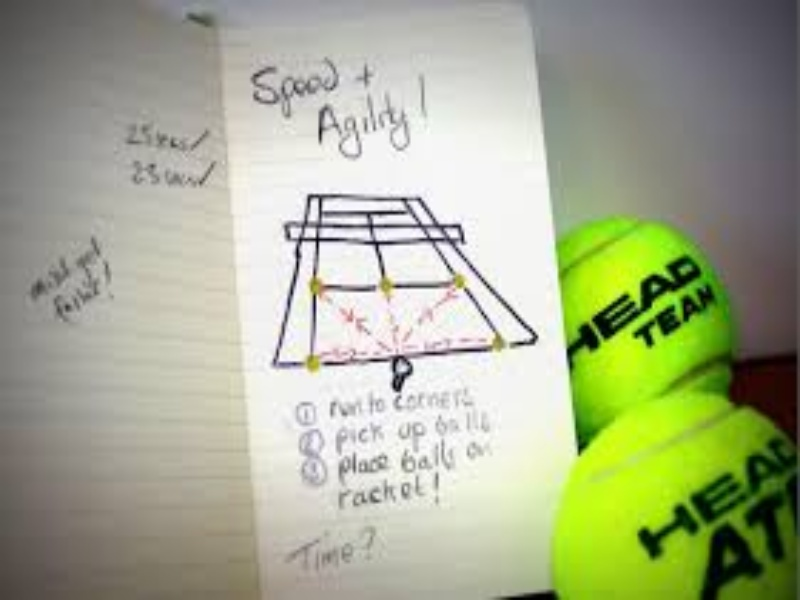tennis ball: (541, 385, 787, 600), (555, 201, 759, 403)
